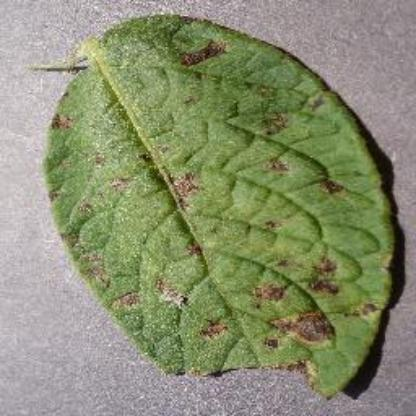Early-Blight: (39, 11, 413, 401)
